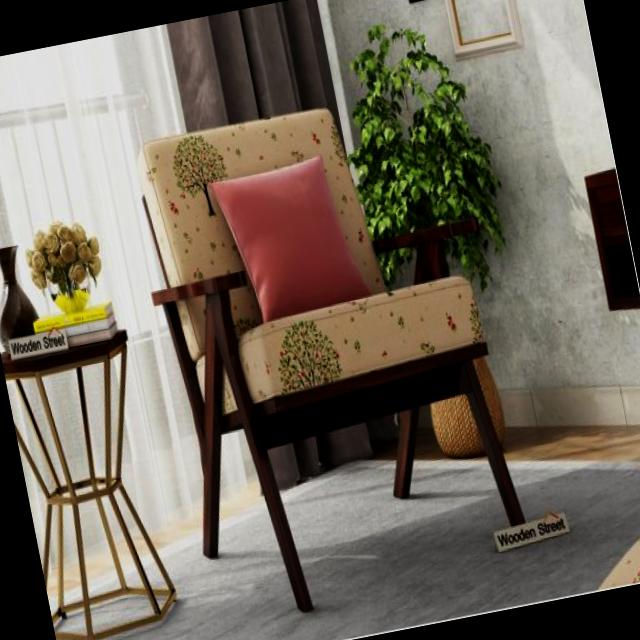obstacle: (116, 72, 549, 580)
